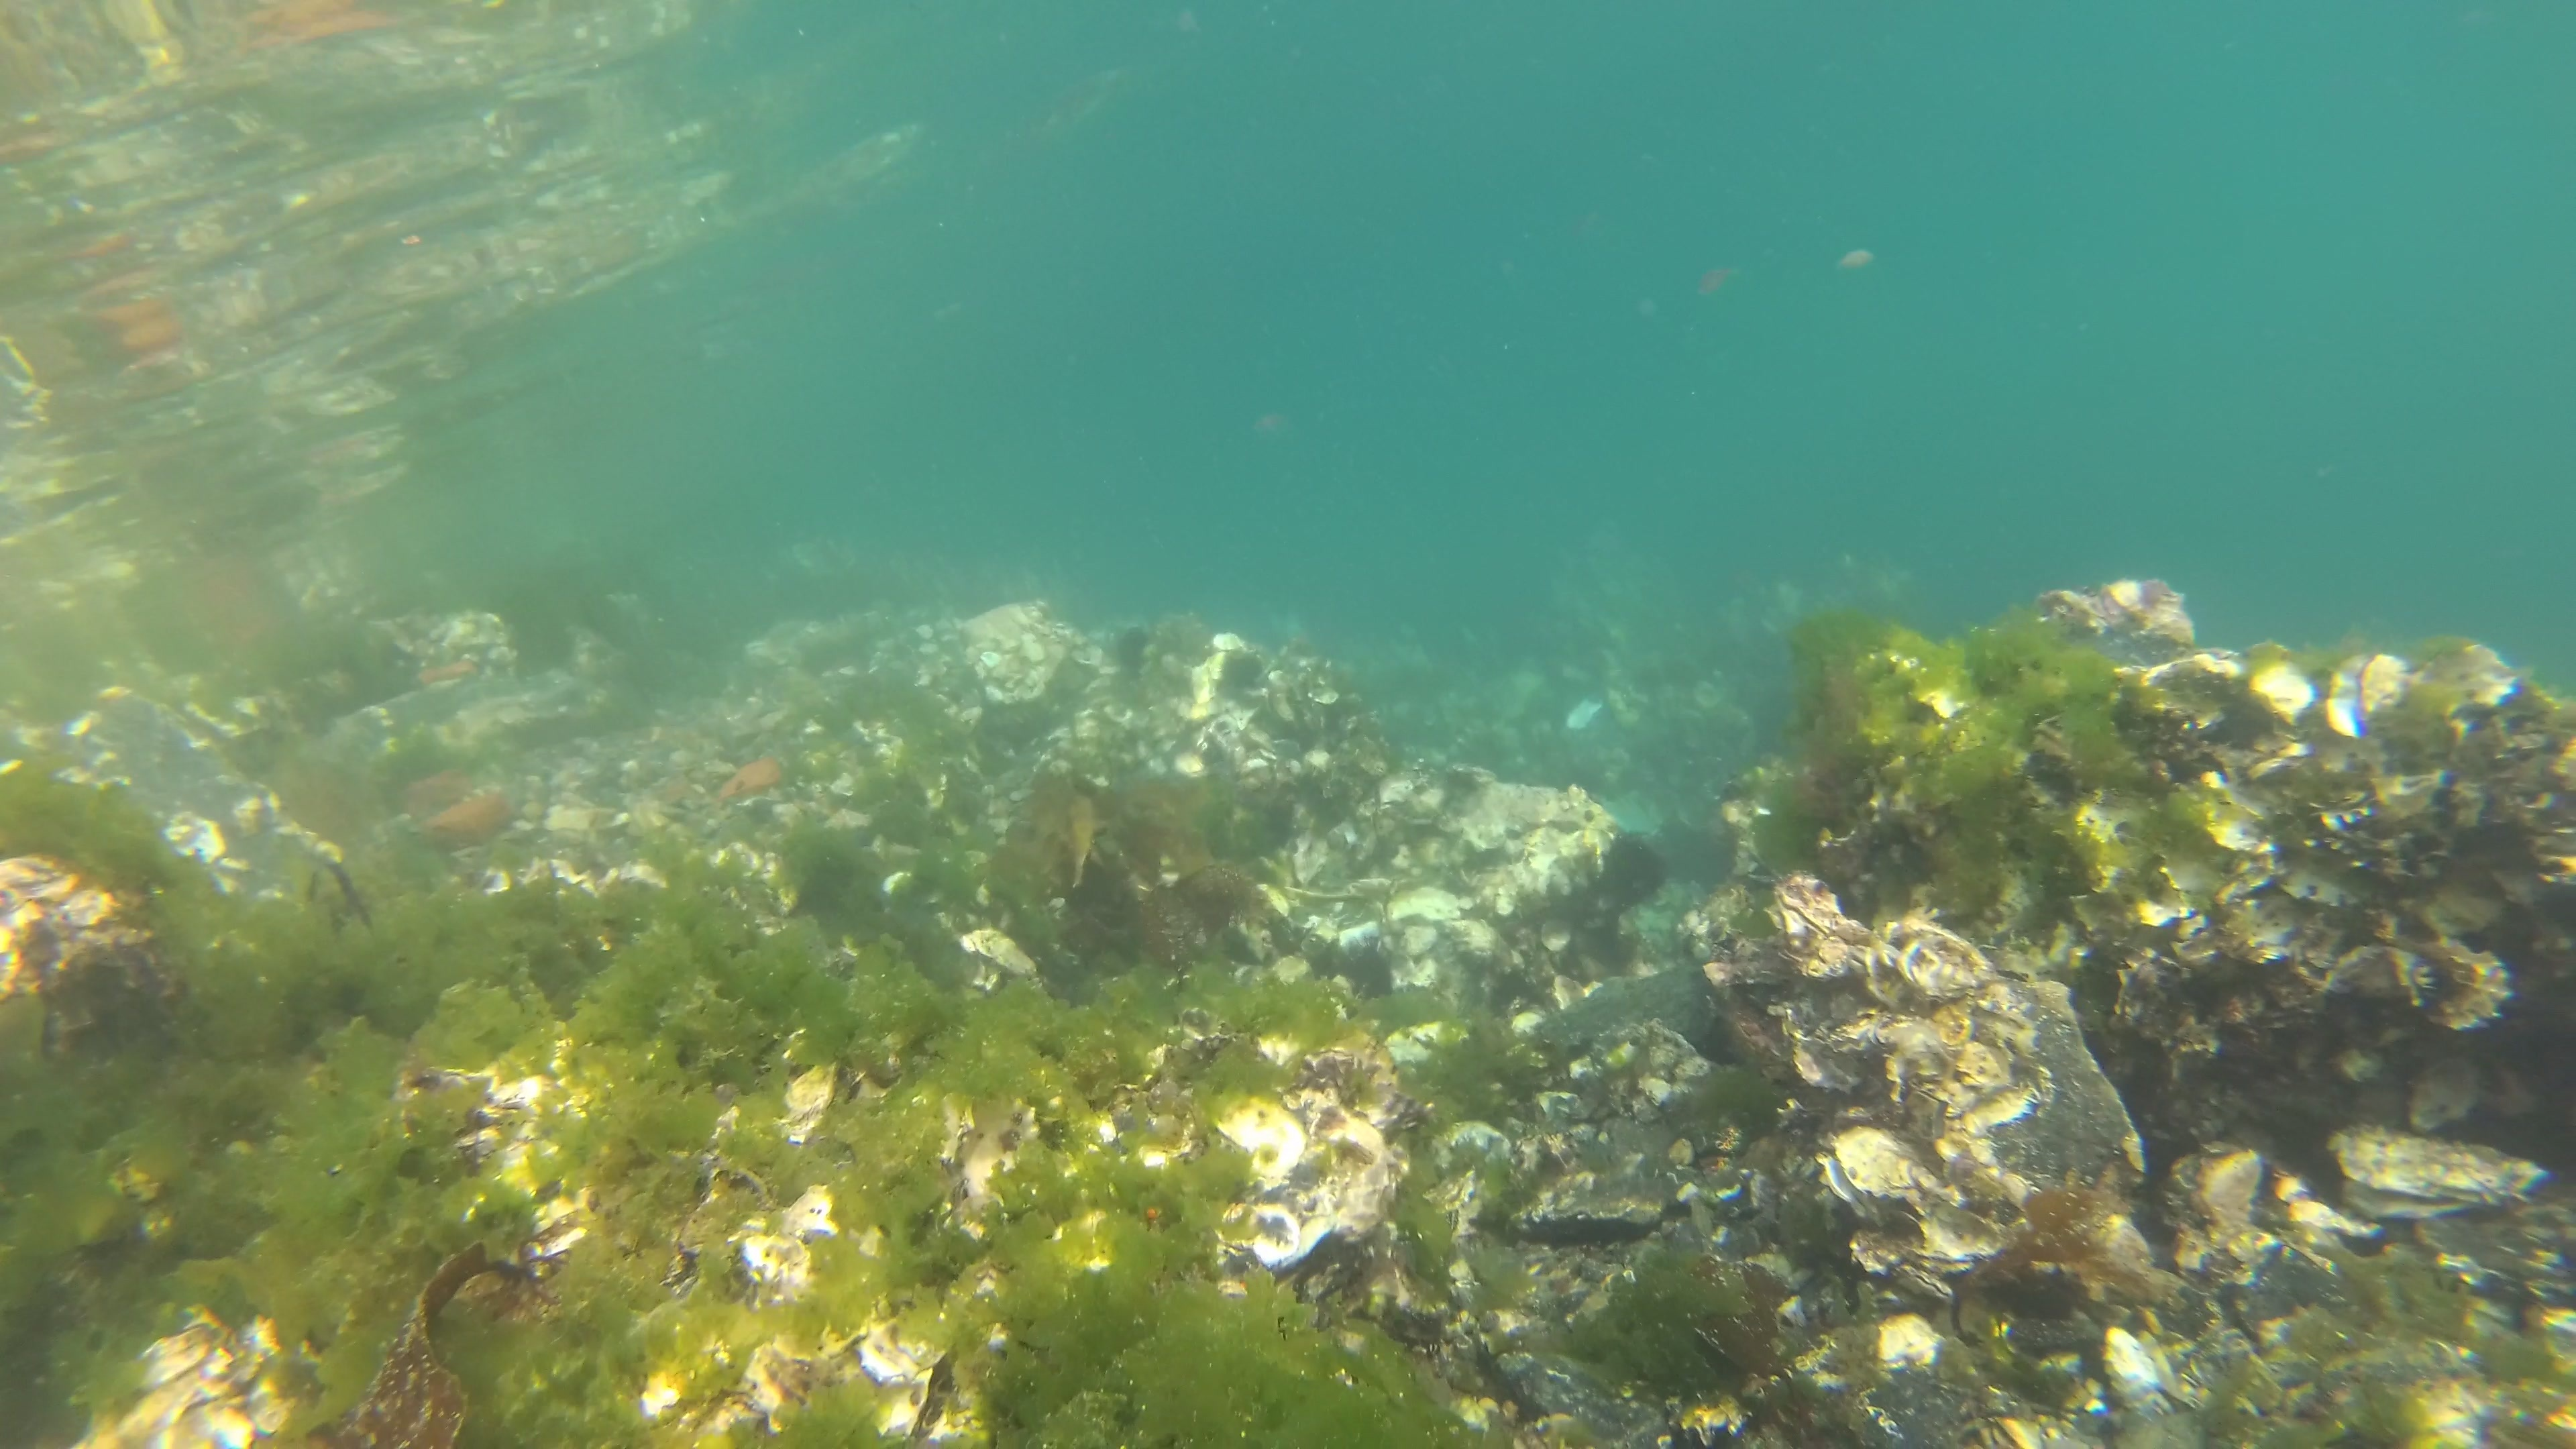echinus: (1330, 934, 1401, 1021), (1603, 835, 1667, 906), (1108, 626, 1159, 679), (1223, 644, 1269, 694)
